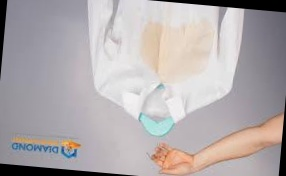coffee: (144, 25, 204, 73)
